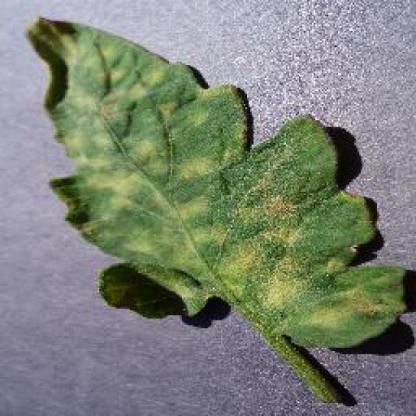Tomato_Leaf_Mold: (29, 16, 405, 347)
